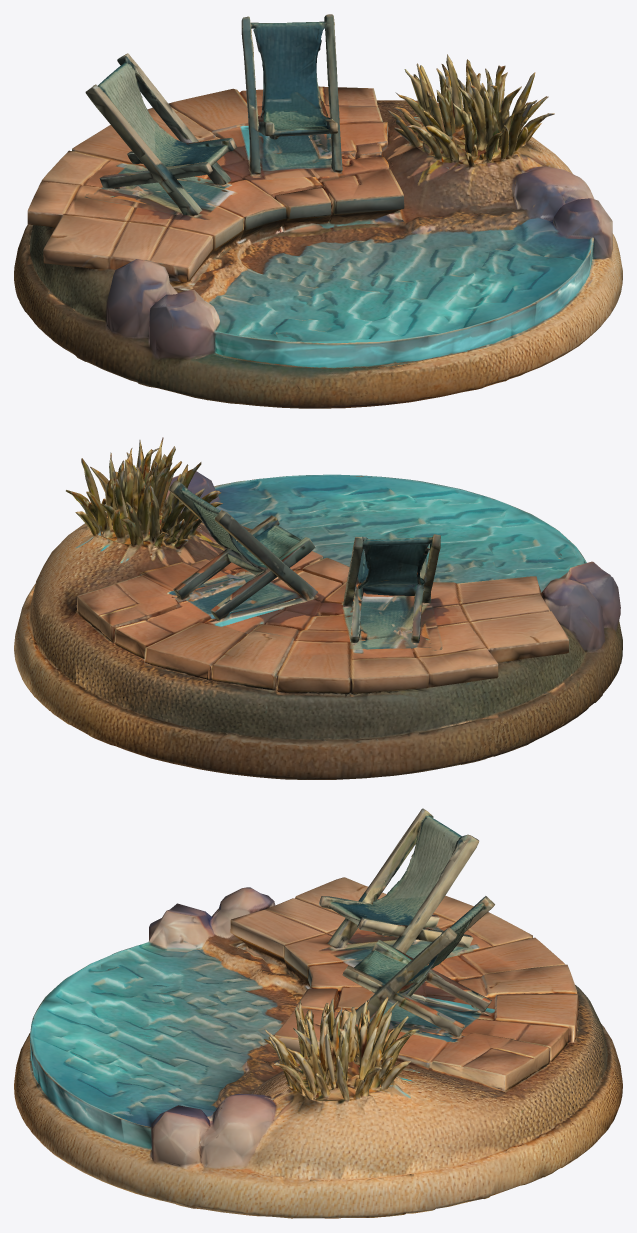
The picture shows the model from 3 angles, top to bottom: view 1: azimuth 30°, elevation 25°; view 2: azimuth 150°, elevation 25°; view 3: azimuth 270°, elevation 25°; orthographic projection.
Parts seen in each view (by area): view 1: texture_mapping; view 2: texture_mapping; view 3: texture_mapping.
Boxes of the visible parts, x1,y1,x2,y2 form: texture_mapping: (14,14,622,408); texture_mapping: (14,437,622,779); texture_mapping: (14,808,622,1218).
Bounding box in the file's own units: 0.999 × 0.3676 × 0.9994.
Materials: 1 (1 with a texture image).
